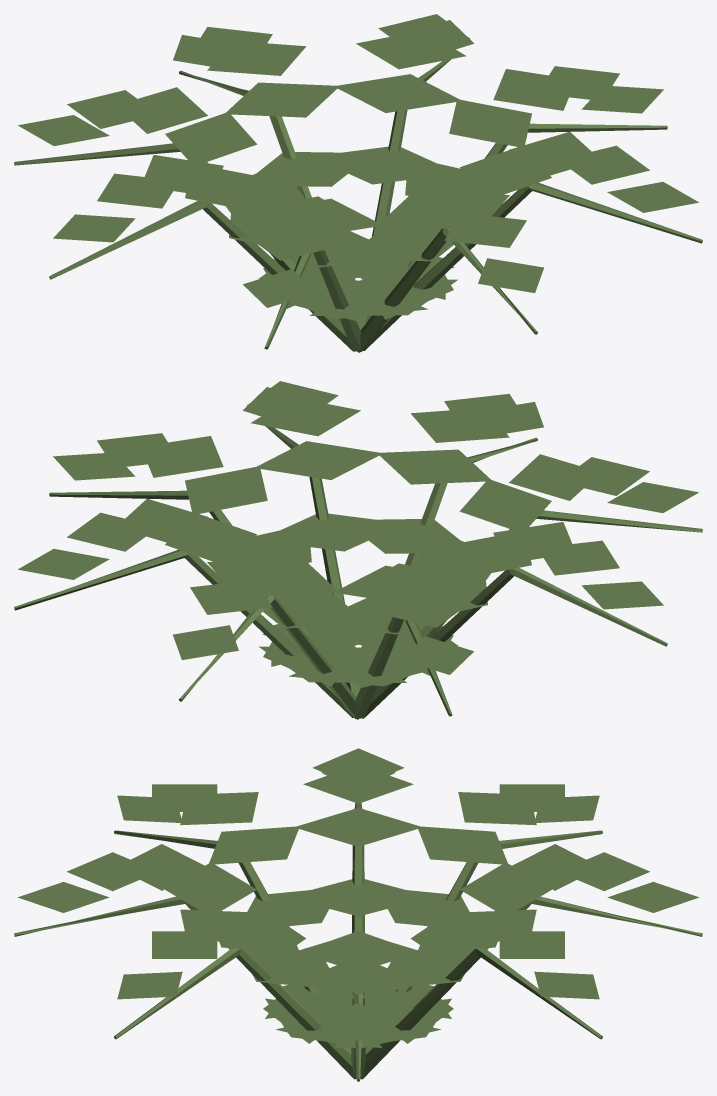
Rendered from fern.glb.
3 views of the same model, one above another, from view 1: azimuth 30°, elevation 25°; view 2: azimuth 150°, elevation 25°; view 3: azimuth 270°, elevation 25° (orthographic). The views are drawn at different scales.
Visible parts, largest first — view 1: fern; view 2: fern; view 3: fern.
Boxes of the visible parts, bbox=[...] form: fern: bbox=[14, 14, 702, 352]; fern: bbox=[14, 381, 702, 719]; fern: bbox=[14, 748, 702, 1081].
Bounding box in the file's own units: 1.04 × 0.3508 × 1.04.
